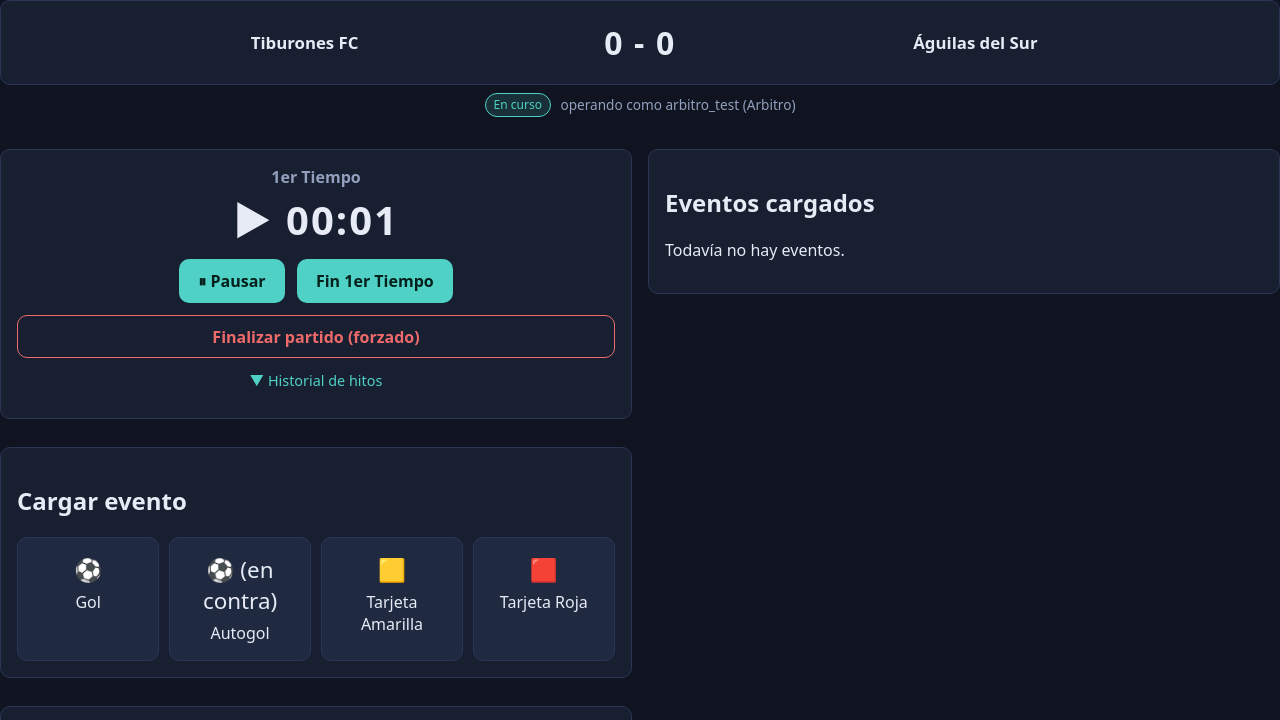
it: MesaPanel — offline-first (3B-1, docs/plans/cierre-backlog-todos-plan.md) › un rechazo REAL del backend (no de red) no se encola — el form muestra el error de siempre
Expected: the heading "Cargar evento" is shown, x1=17 y1=484 x2=187 y2=517
Click the button "⚽ Gol". click: (88, 599)
box: x1=17 y1=537 x2=159 y2=661
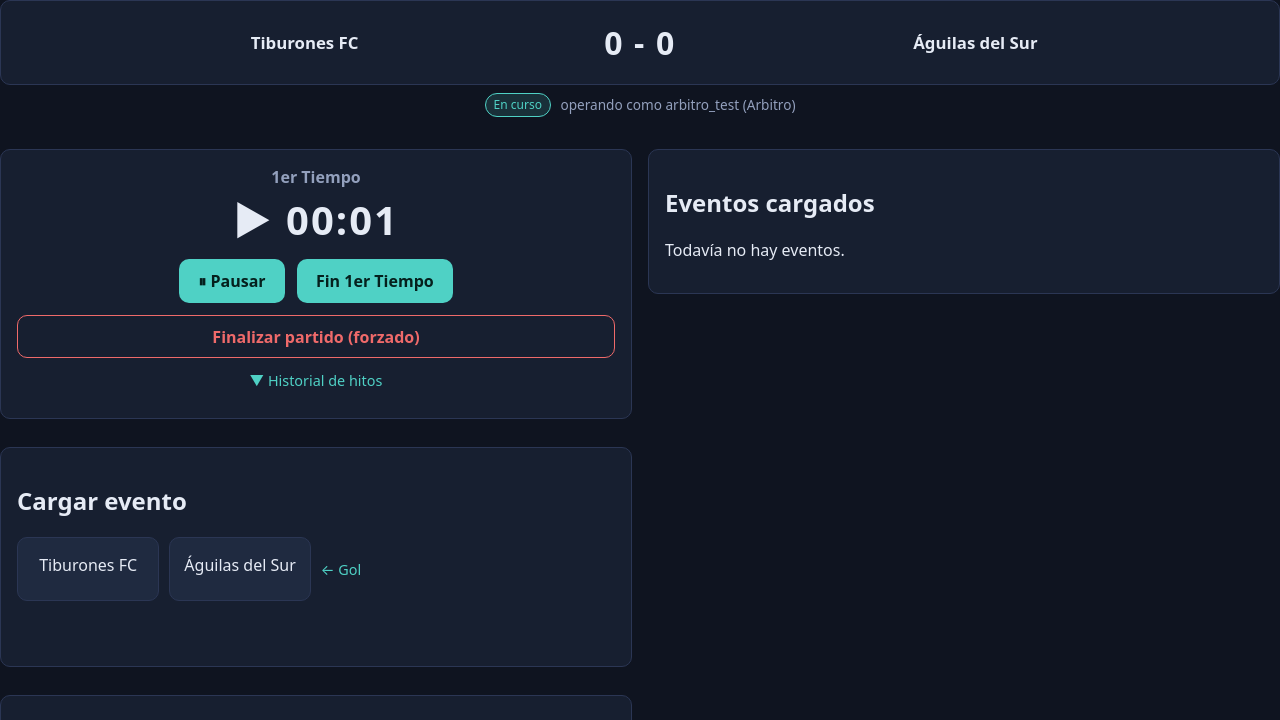
Click the button "Tiburones FC". click: (88, 569)
box: x1=17 y1=537 x2=159 y2=601
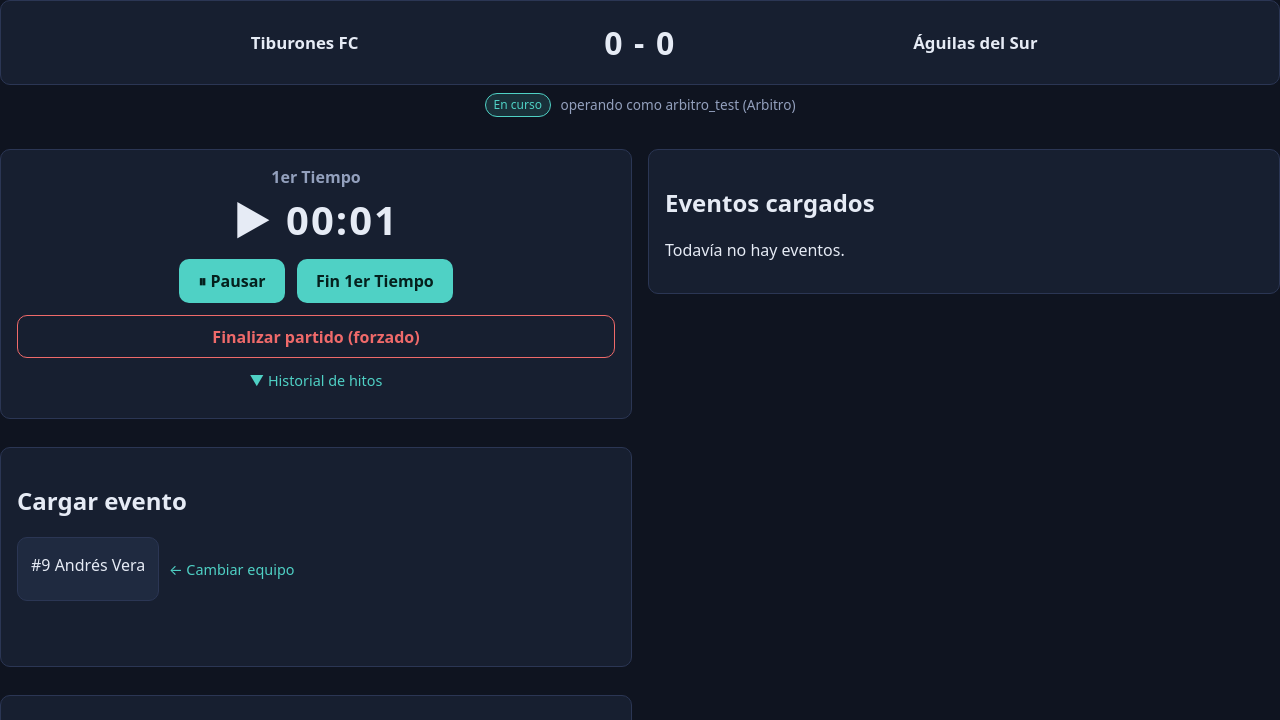
Click the button "#9 Andrés Vera". click: (88, 569)
box: x1=17 y1=537 x2=159 y2=601
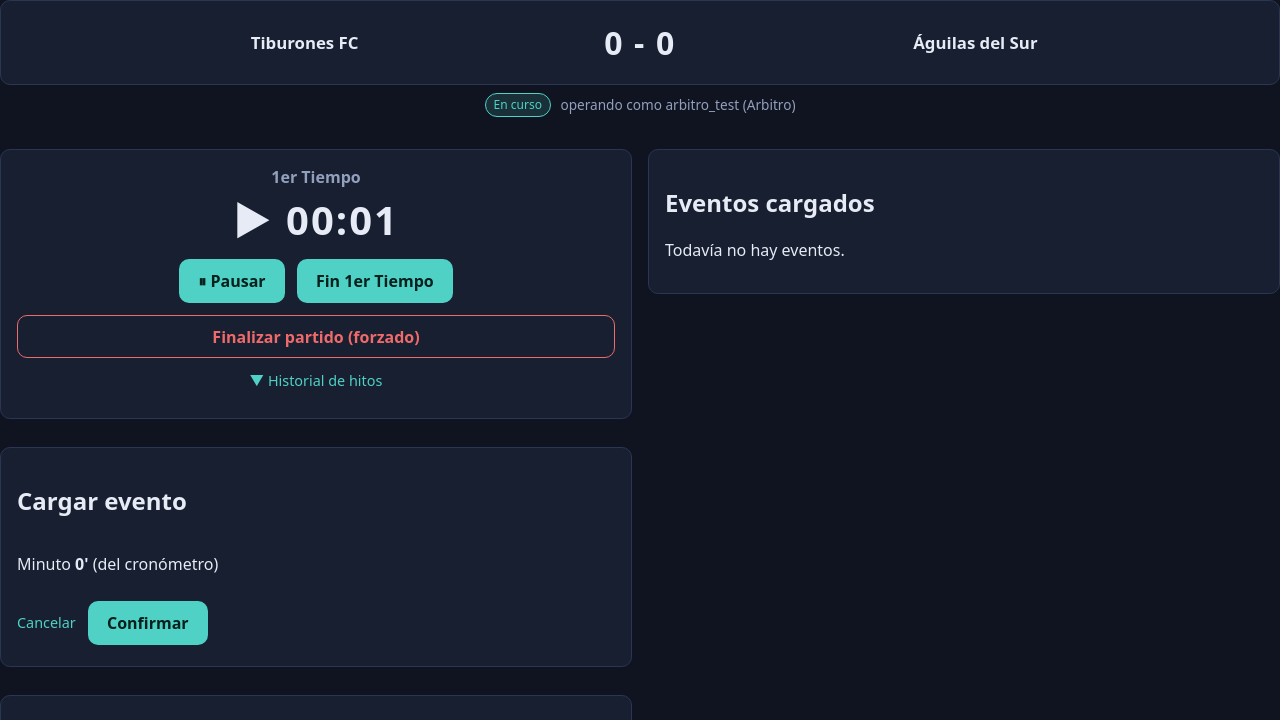
Expected: the button "Confirmar" is enabled
Click the button "Confirmar". click: (148, 623)
box: x1=88 y1=601 x2=208 y2=645
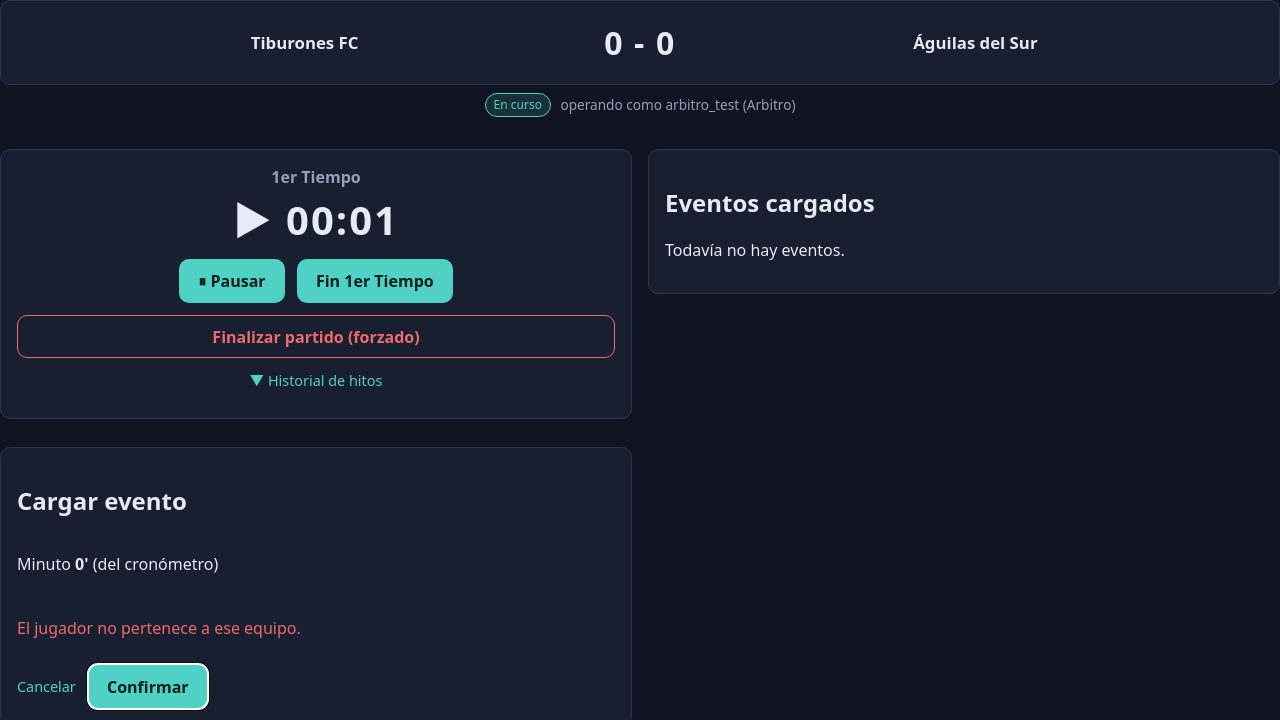
Expected: the heading "Cargar evento" is shown, x1=17 y1=484 x2=187 y2=517
Expected: the text "El jugador no pertenece a ese equipo." is shown, x1=17 y1=617 x2=301 y2=639
